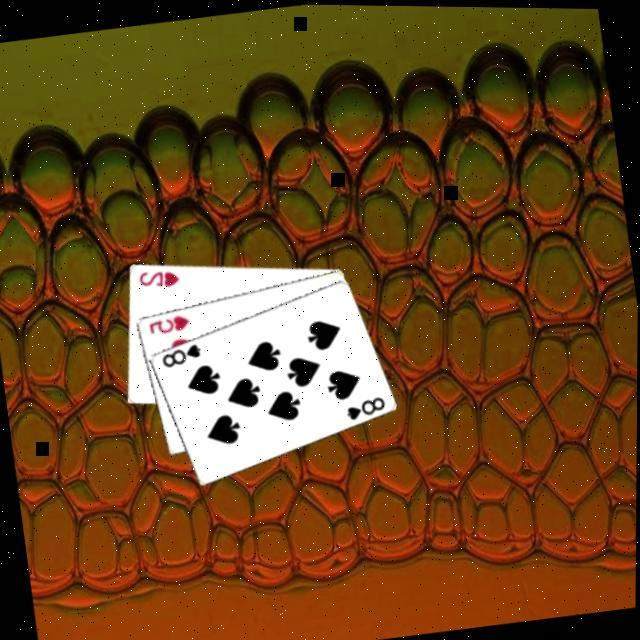2H: (132, 264, 182, 295)
5H: (144, 311, 192, 339)
8S: (339, 392, 388, 424), (156, 340, 204, 372)
